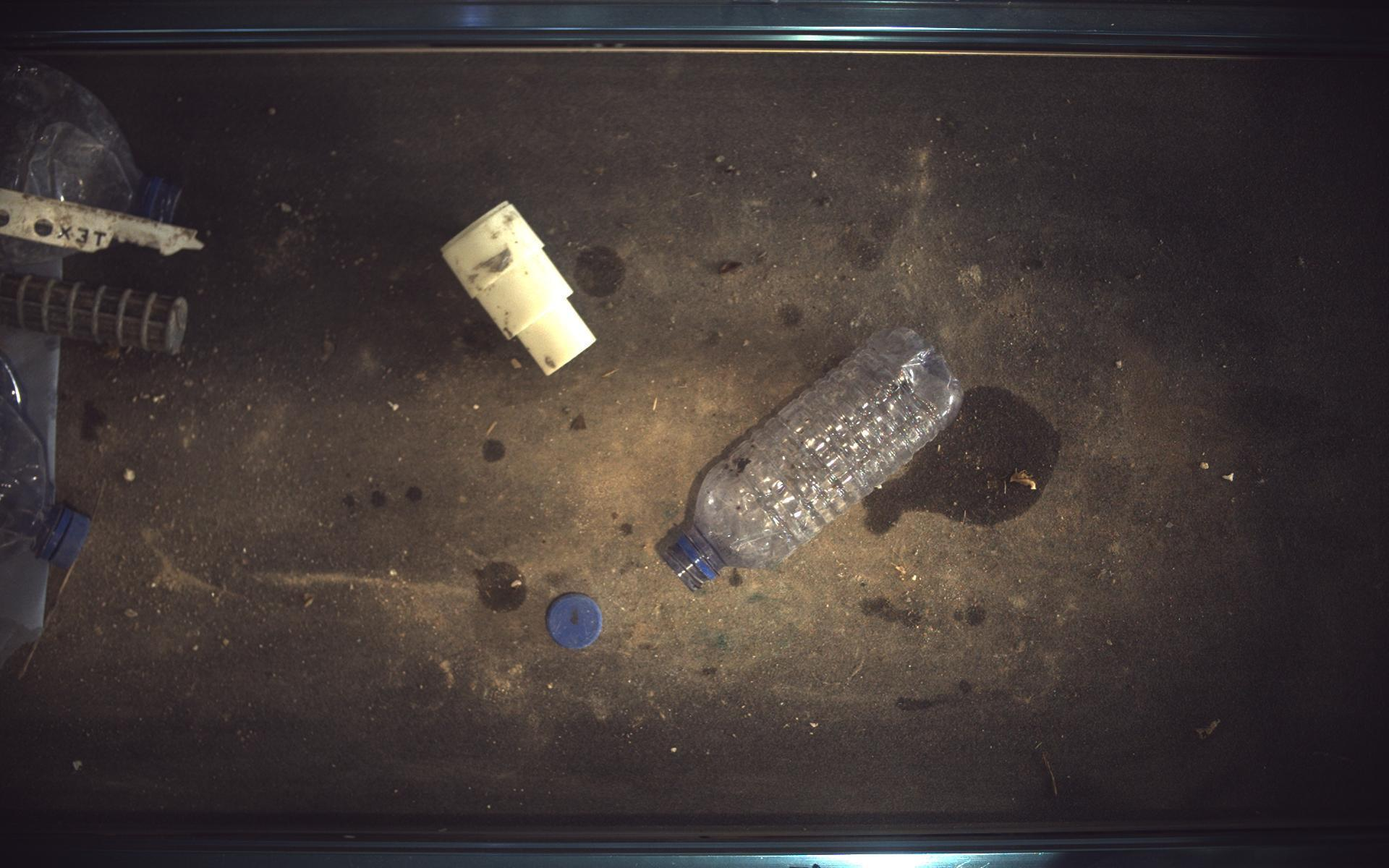general_w: (660, 327, 964, 592), (547, 594, 603, 650)
plastic: (441, 201, 596, 375)
